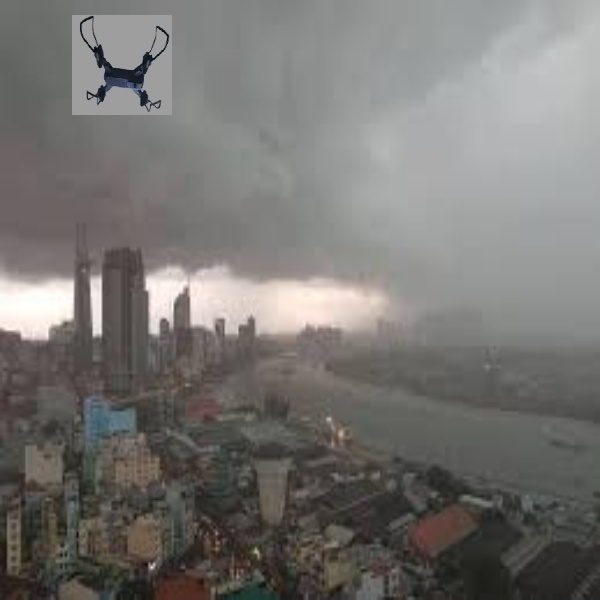drone: (70, 13, 175, 119)
